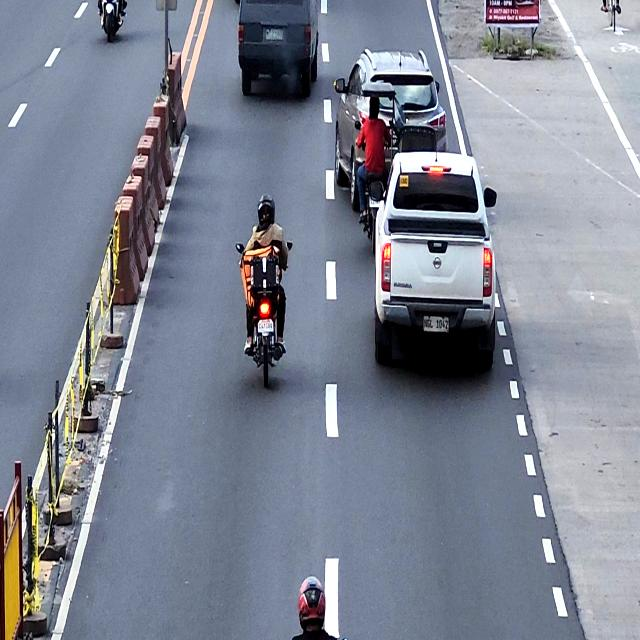Car: (374, 148, 498, 385), (335, 50, 448, 212), (237, 0, 318, 101)
License-Plate: (423, 315, 449, 334), (264, 27, 284, 40), (258, 318, 274, 333), (368, 195, 382, 207)
Motorcycle: (234, 239, 293, 385), (97, 0, 126, 43)
Tricycle: (359, 78, 438, 252)
